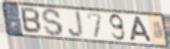7: (85, 12, 103, 39)
9: (108, 13, 126, 41)
A: (129, 15, 154, 43)
B: (20, 7, 43, 35)
J: (67, 10, 85, 39)
S: (40, 7, 64, 37)
